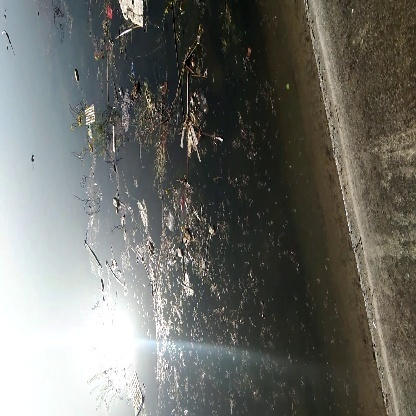branch: (81, 234, 108, 268)
